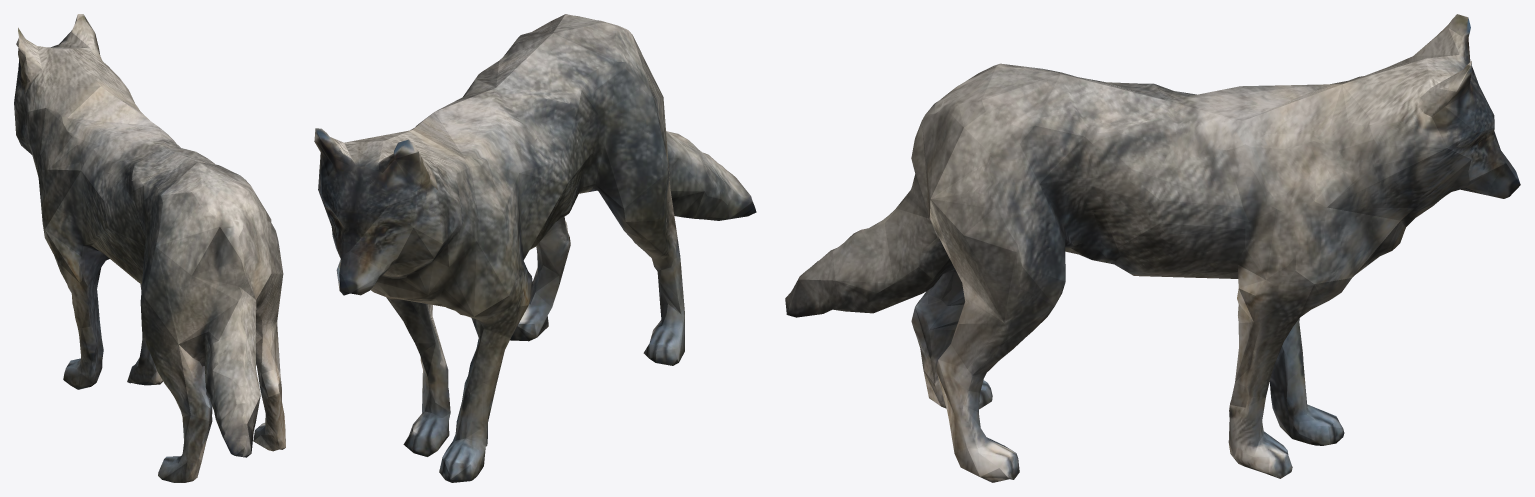
Rendered from Wolf.fbx.
3 views of the same model, side by side, from view 1: azimuth 30°, elevation 25°; view 2: azimuth 150°, elevation 25°; view 3: azimuth 270°, elevation 25° (orthographic). The views are drawn at different scales.
Parts seen in each view (by area): view 1: Wolf; view 2: Wolf; view 3: Wolf.
Boxes of the visible parts, x1,y1,x2,y2 form: Wolf: (14, 14, 285, 482); Wolf: (314, 14, 756, 482); Wolf: (785, 14, 1520, 482).
Bounding box in the file's own units: 0.3581 × 0.7784 × 1.23.
1 material, 1 textured.
